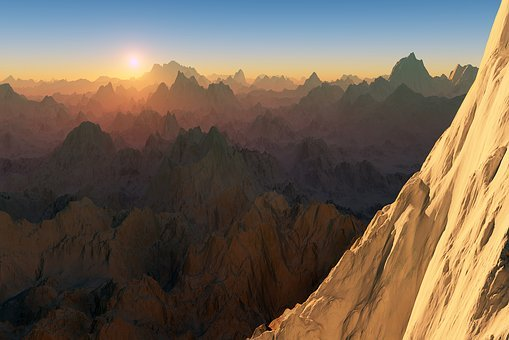mountain: (2, 76, 504, 339)
sky: (3, 1, 499, 81)
